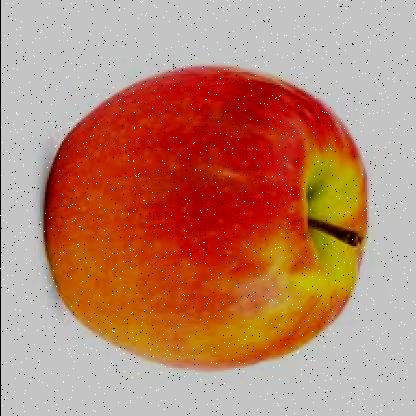apple: (37, 68, 357, 370)
